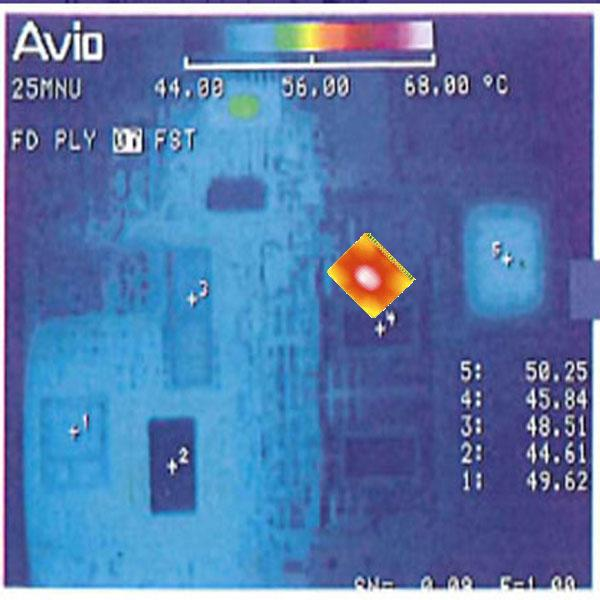componente_T: (324, 228, 418, 320), (289, 23, 349, 52)
